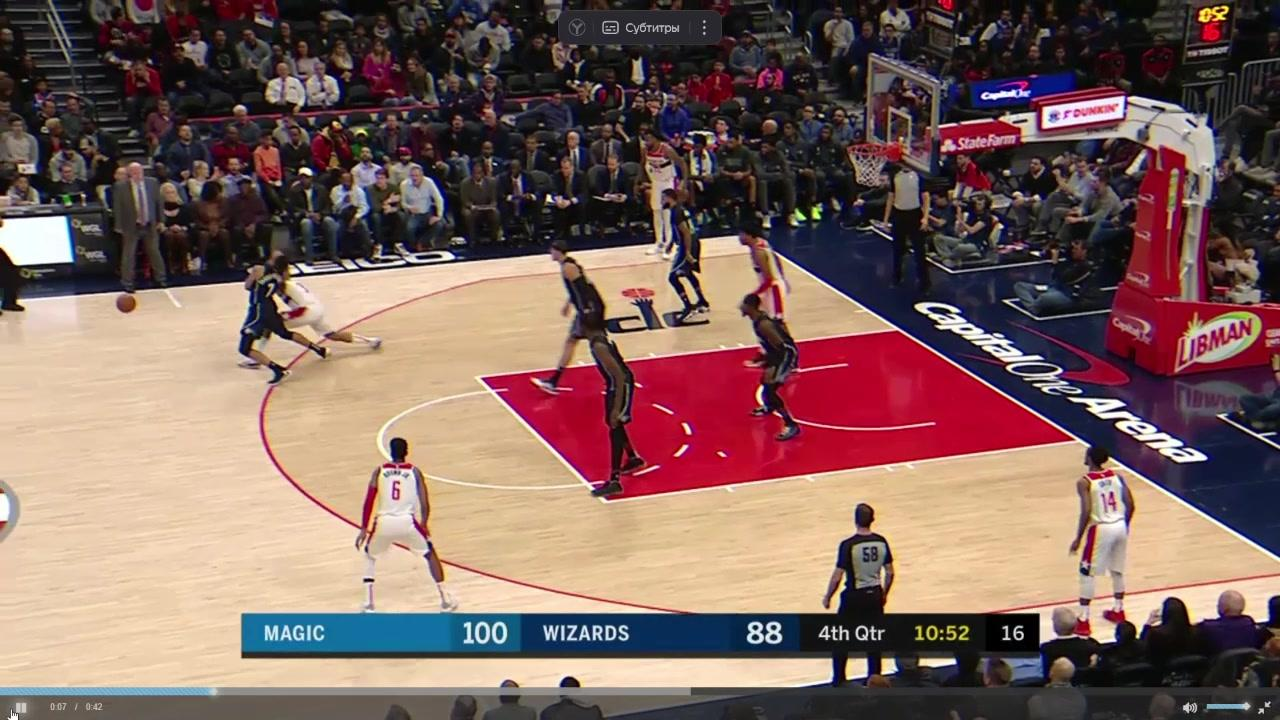foul: (219, 246, 396, 391)
